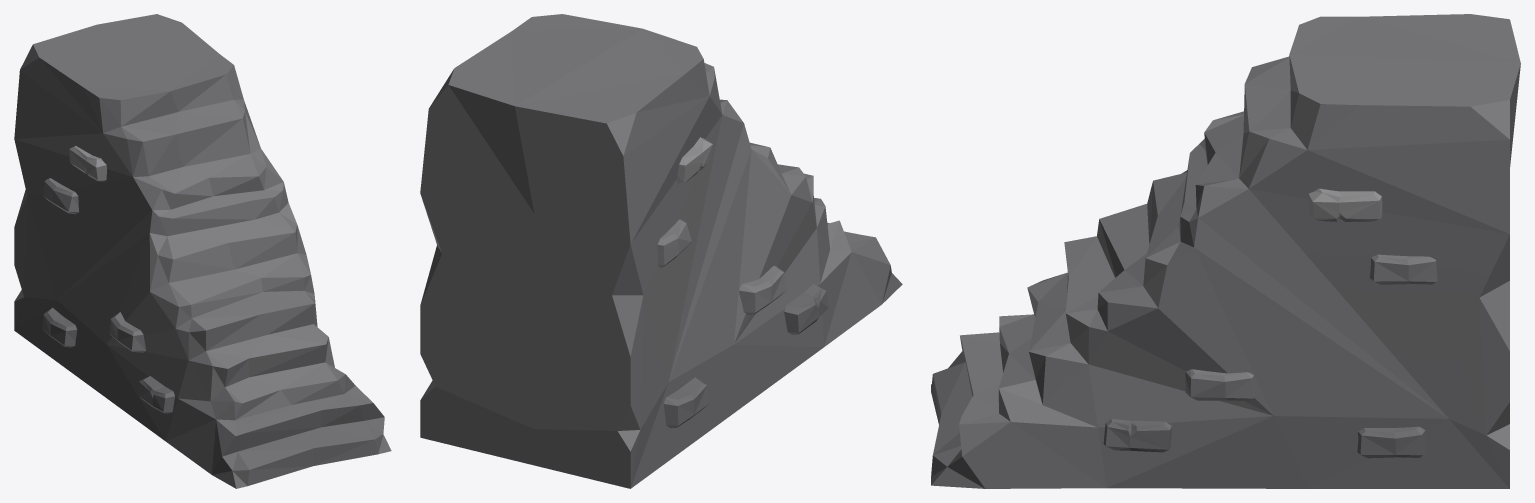
File: SM_Bld_Rockwall_Stairs_01.gltf
3 views of the same model, side by side, from view 1: azimuth 30°, elevation 25°; view 2: azimuth 150°, elevation 25°; view 3: azimuth 270°, elevation 25° (orthographic). The views are drawn at different scales.
Parts seen in each view (by area): view 1: SM_Bld_Rockwall_Stairs_01; view 2: SM_Bld_Rockwall_Stairs_01; view 3: SM_Bld_Rockwall_Stairs_01.
Part boxes in pixels (left/top/right/bottom): SM_Bld_Rockwall_Stairs_01: left=14, top=14, right=391, bottom=488; SM_Bld_Rockwall_Stairs_01: left=420, top=14, right=902, bottom=488; SM_Bld_Rockwall_Stairs_01: left=931, top=14, right=1520, bottom=488.
Bounding box in the file's own units: 1.8 × 2.74 × 3.91.
1 material, 1 textured.
